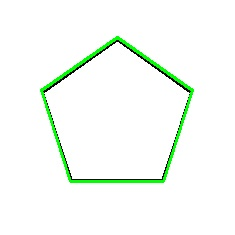line_segment: (40, 37, 193, 182)
